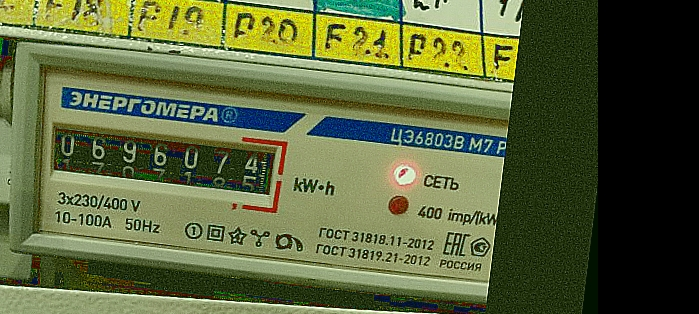0: (54, 130, 76, 157), (180, 143, 199, 170)
4: (241, 149, 260, 175)
5: (239, 173, 256, 193)
6: (87, 132, 109, 161), (149, 141, 168, 167)
7: (209, 147, 230, 175)
9: (117, 137, 139, 164)
screen: (32, 106, 292, 217)
